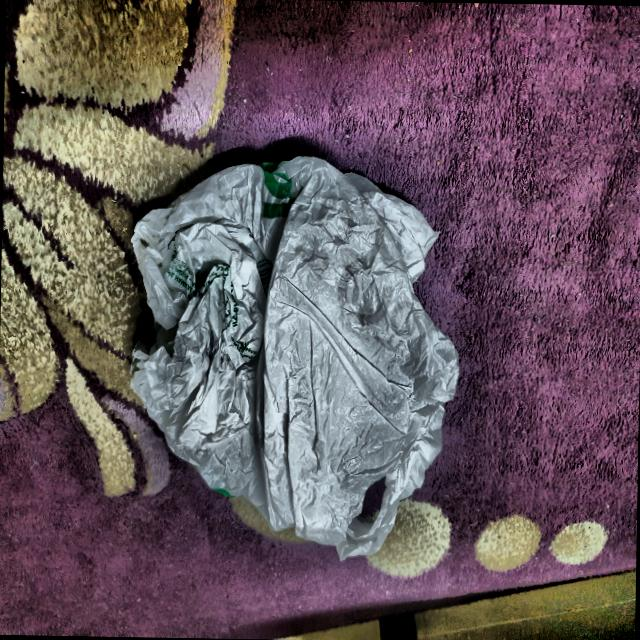plastic bag: (114, 137, 475, 574)
